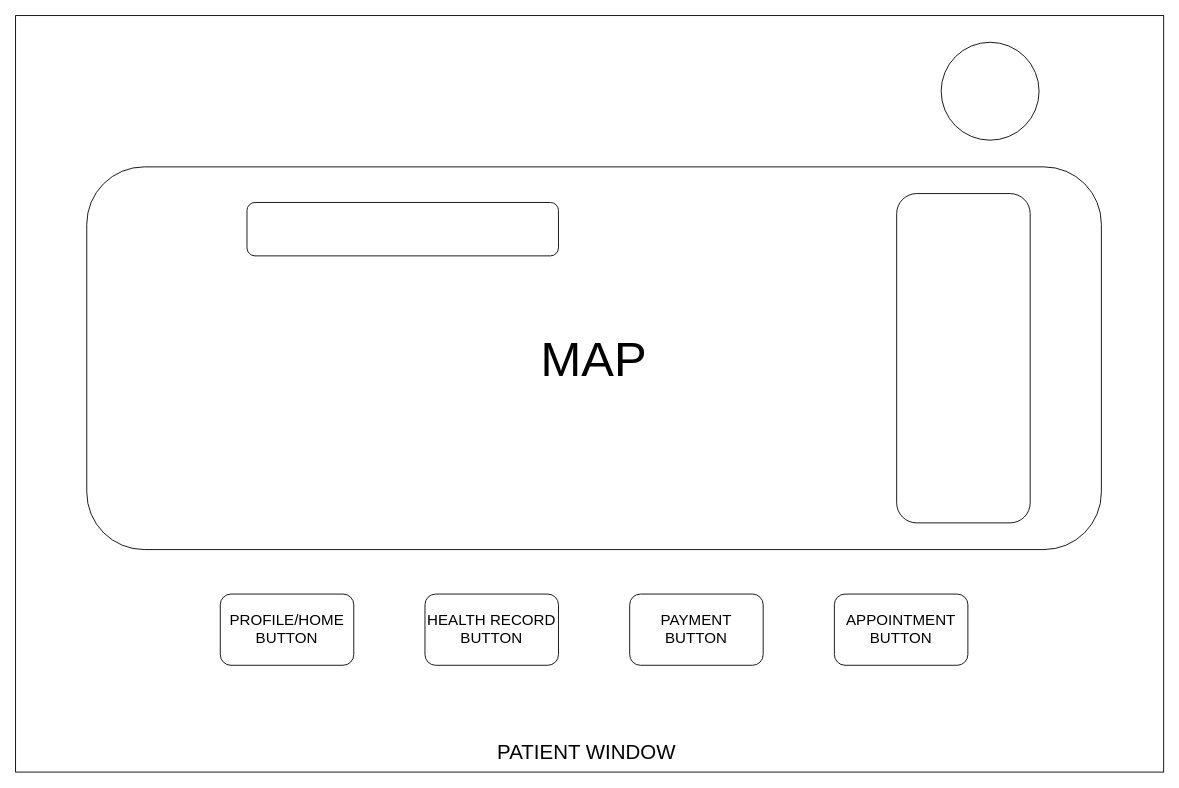
Image size: 1179x788. Some labels were removed from this diagram. Here are the shapes that lost their labels. From the top down, the centre of each, then its label:
the point at 989,90: LOGOUT
the point at 402,229: SEARCH BAR
the point at 963,358: REGISTERED CLINIC INFO
